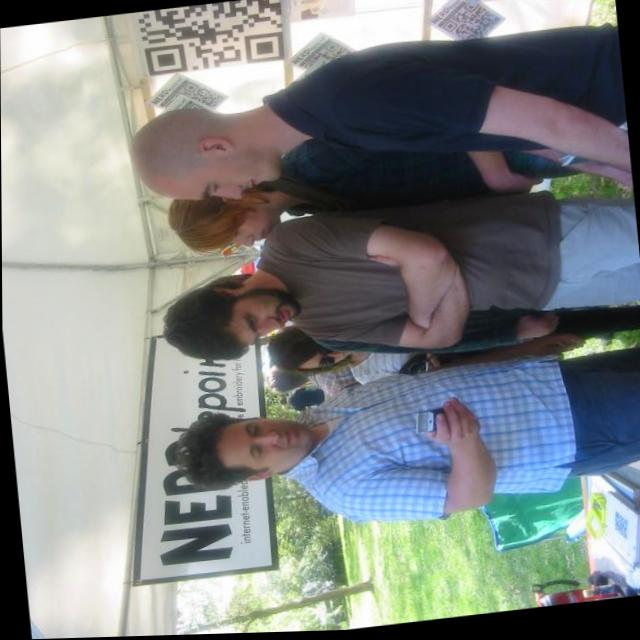qrcode: (137, 1, 286, 77), (440, 2, 503, 45), (301, 40, 354, 71), (179, 79, 226, 113), (445, 1, 508, 5)
